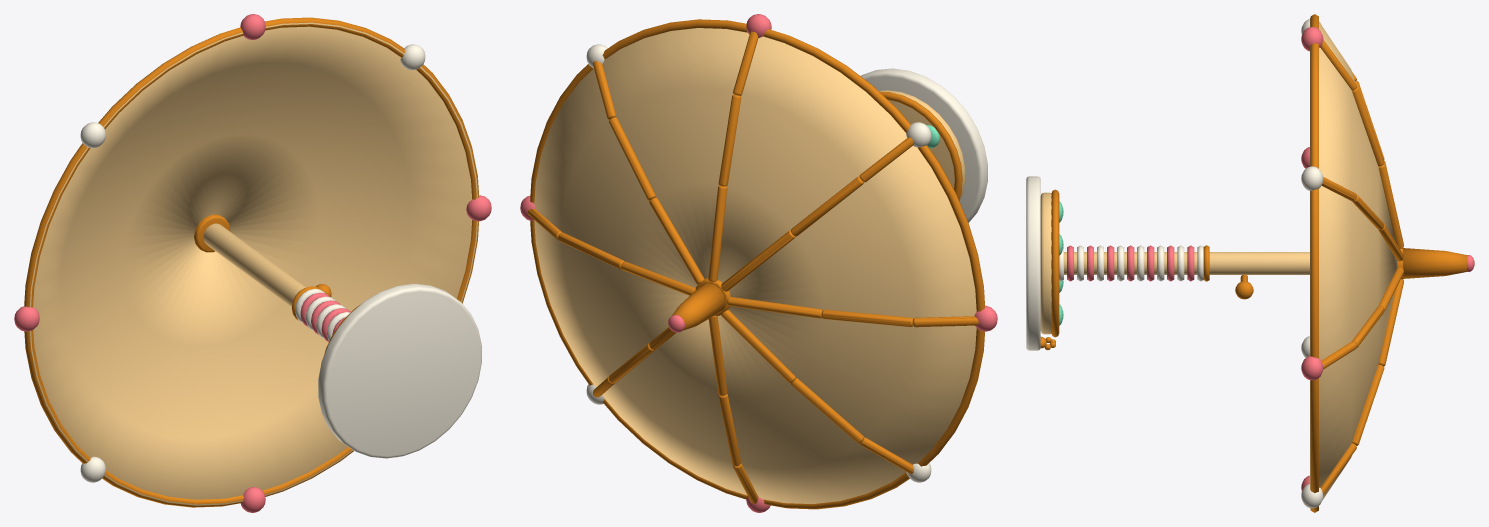
The model's file is PatioParasol_Premium.fbx.
3 renders of one model, left to right at view 1: azimuth 30°, elevation 25°; view 2: azimuth 150°, elevation 25°; view 3: azimuth 270°, elevation 25°, orthographic. The views are drawn at different scales.
Parts seen in each view (by area): view 1: PatioParasol; view 2: PatioParasol; view 3: PatioParasol.
Boxes of the visible parts, x1,y1,x2,y2 form: PatioParasol: (14, 14, 491, 512); PatioParasol: (520, 14, 997, 512); PatioParasol: (1026, 14, 1474, 512).
Size of the model in its own units: 2.14 by 2.14 by 1.85.
